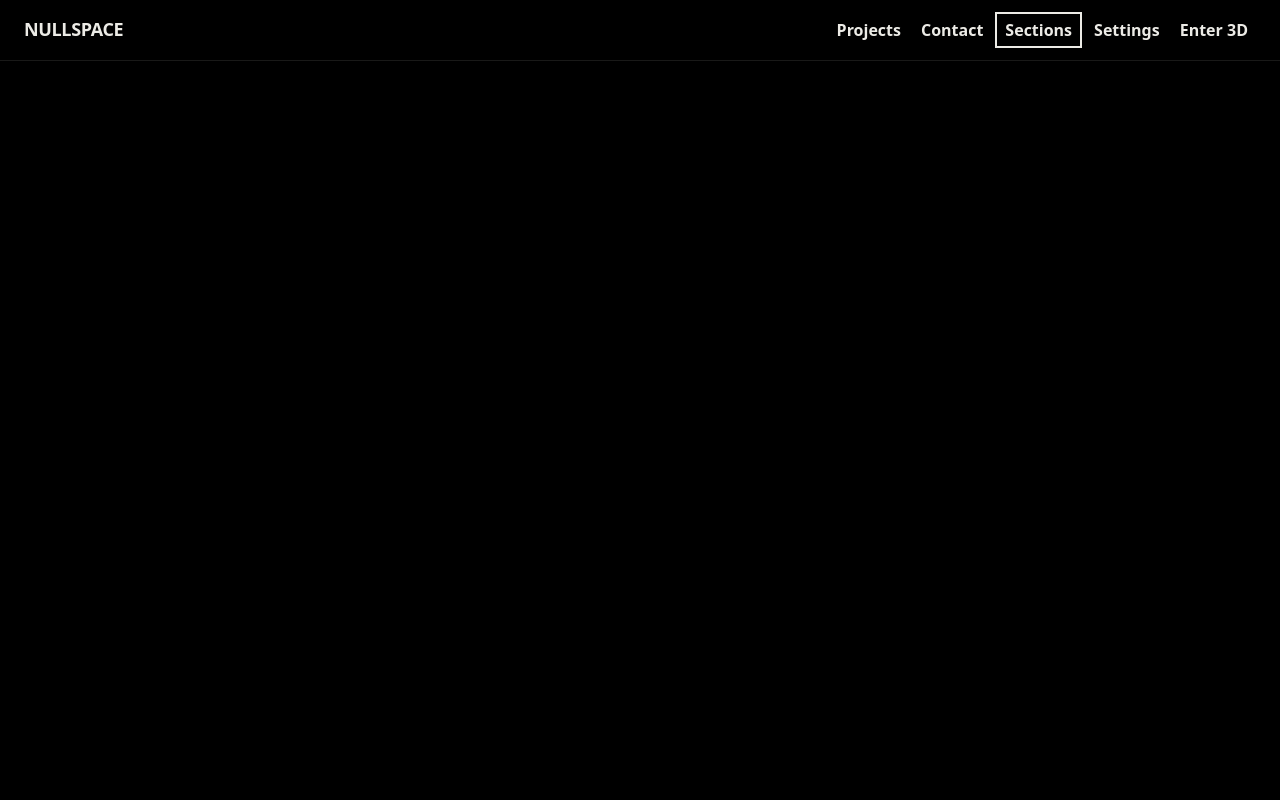
Test: TopBar › opens Contact in one click
Click the button "Contact". click: (952, 30)
box: [913, 14, 991, 46]
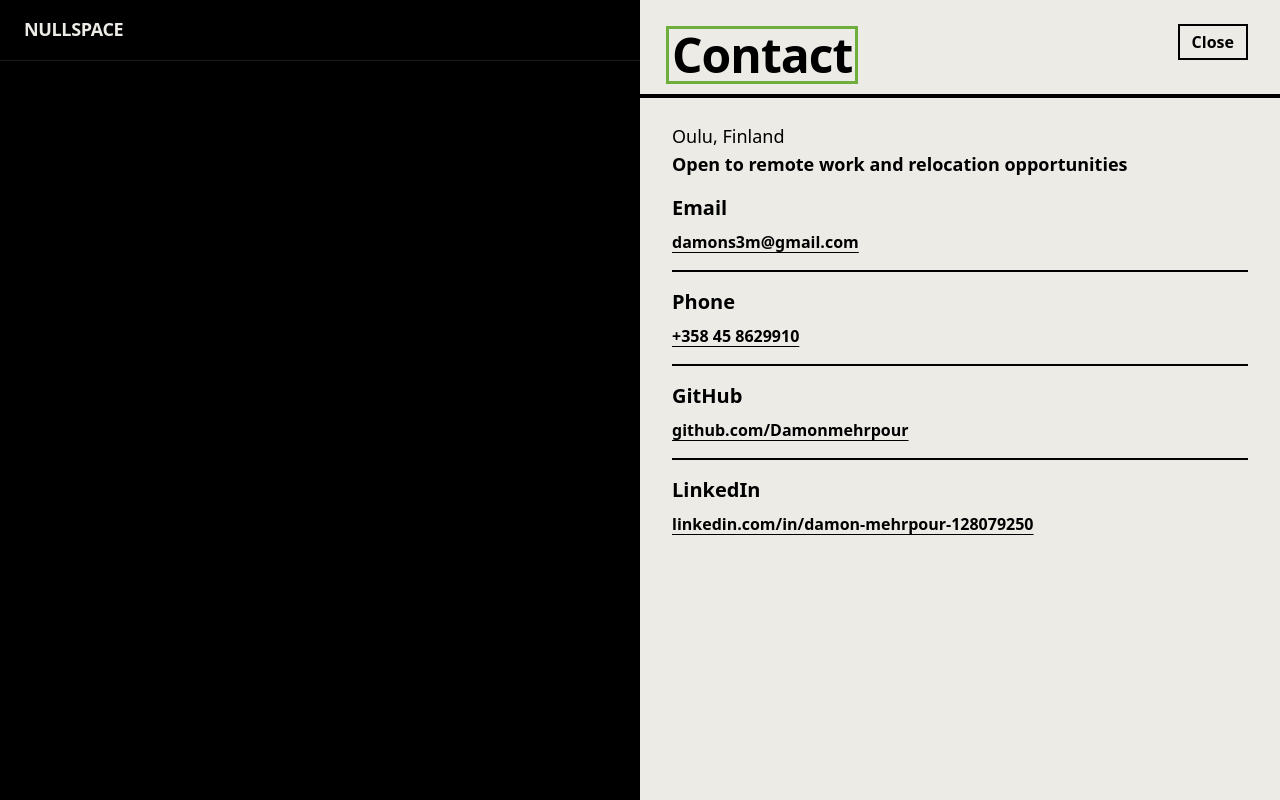
Check: the dialog "Contact" is shown, box [640, 0, 1279, 799]
